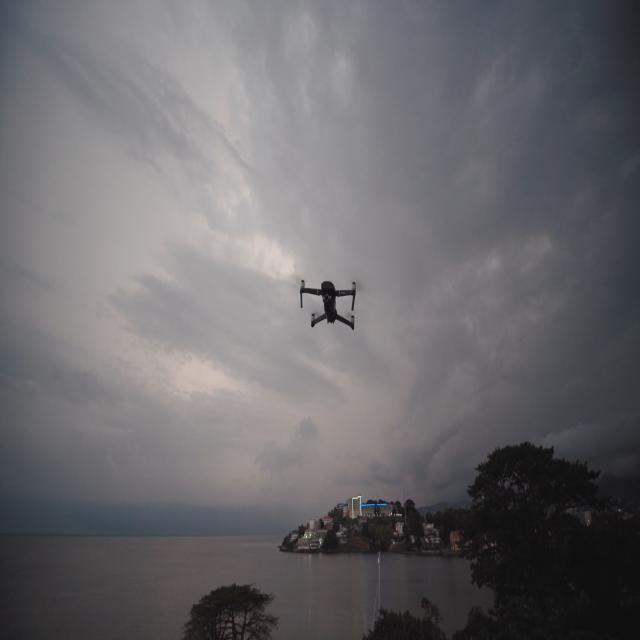drone: (299, 278, 356, 331)
